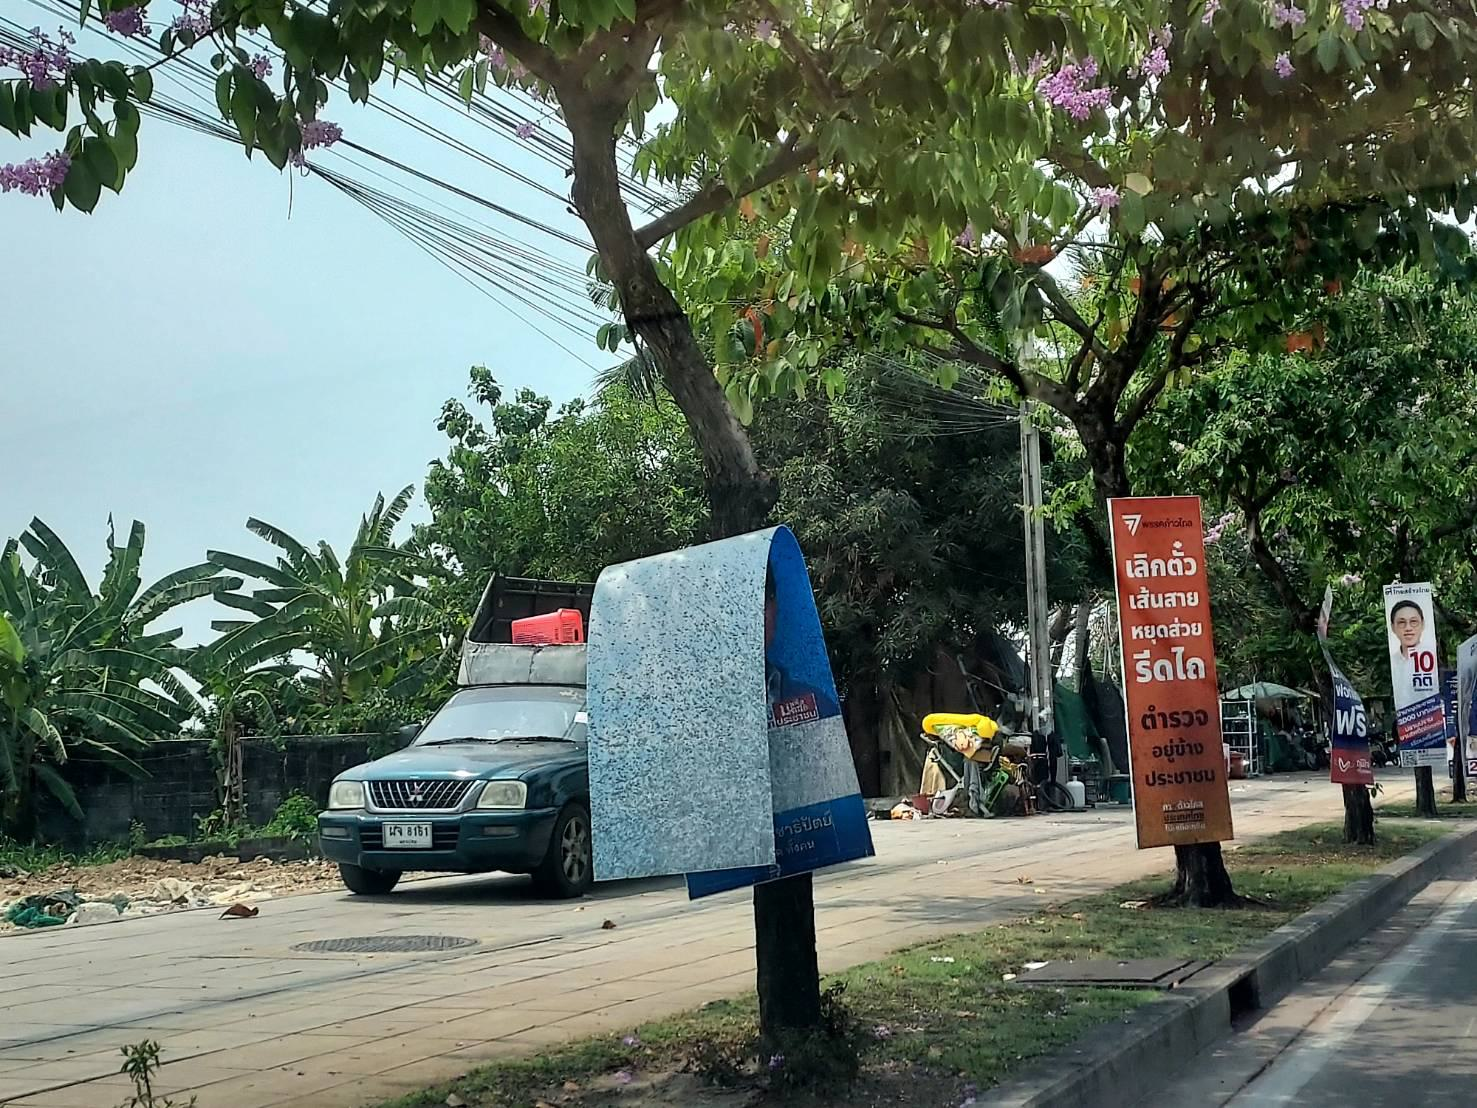Banner: (1105, 495, 1247, 841)
